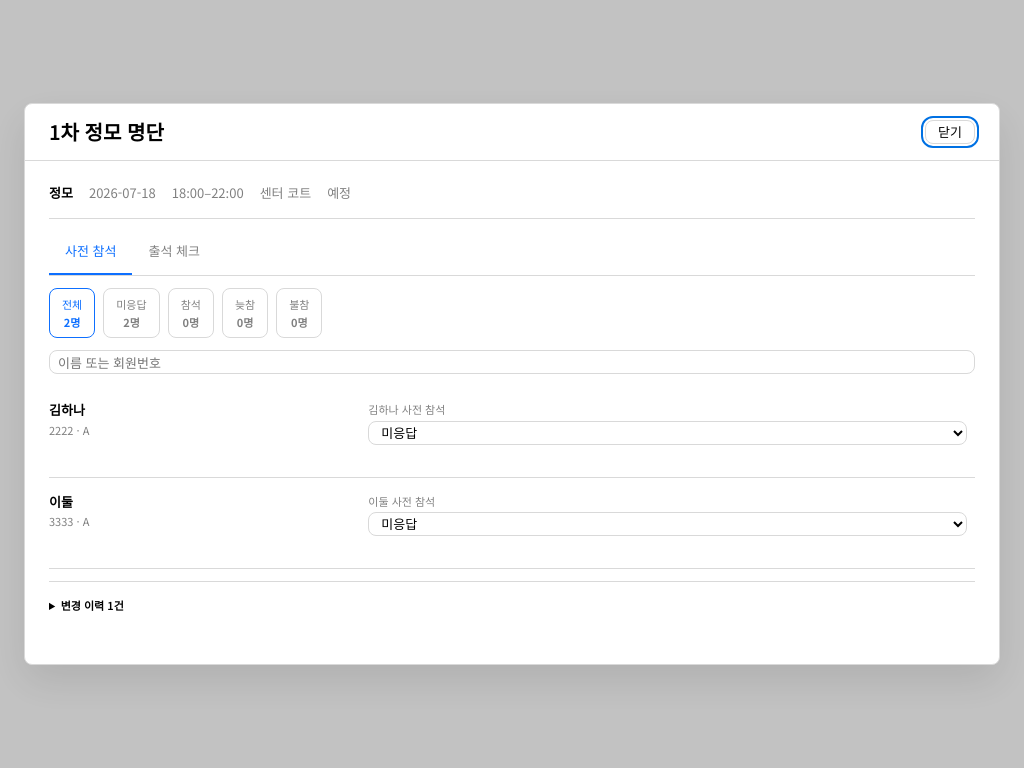
Test: MeetingRosterModal › merges a confirmed row into local summary without losing saved feedback
Expected: the button with aria-label "미응답 2명 필터" is shown, [103,288,160,338]
Select "참석" in the dropdown labelled "김하나 사전 참석" at (668, 433), box [368,421,967,445]
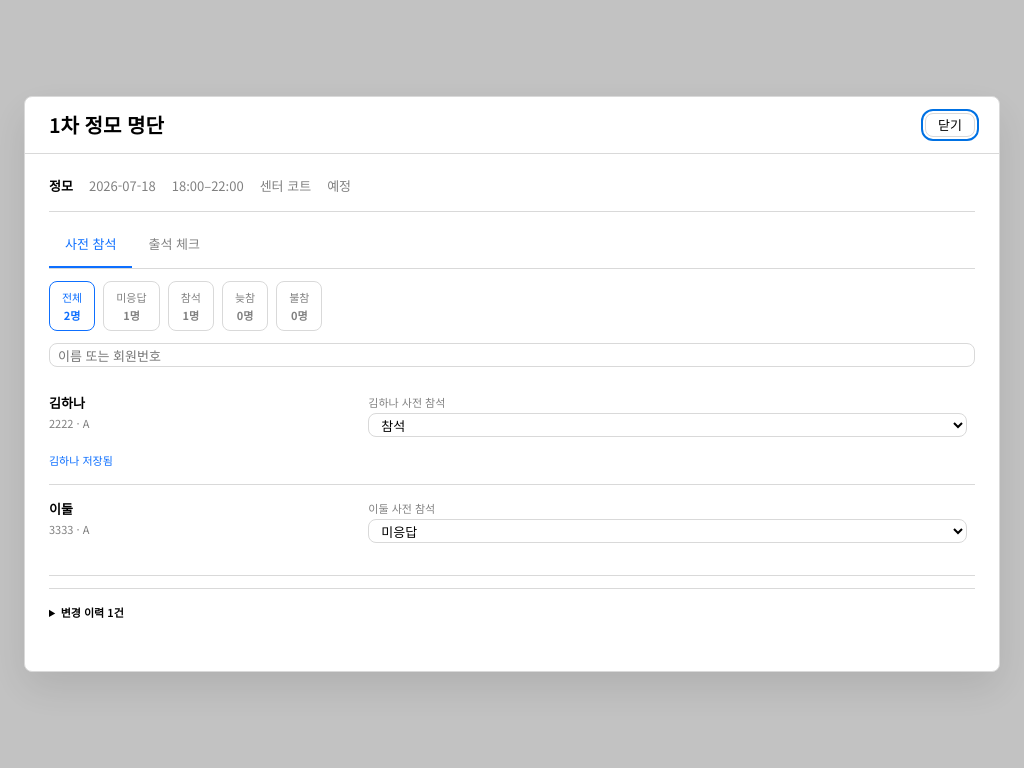
Expected: the button with aria-label "참석 1명 필터" is shown, [168,280,214,331]
Expected: the text "김하나 저장됨" is shown, [49,452,113,468]
